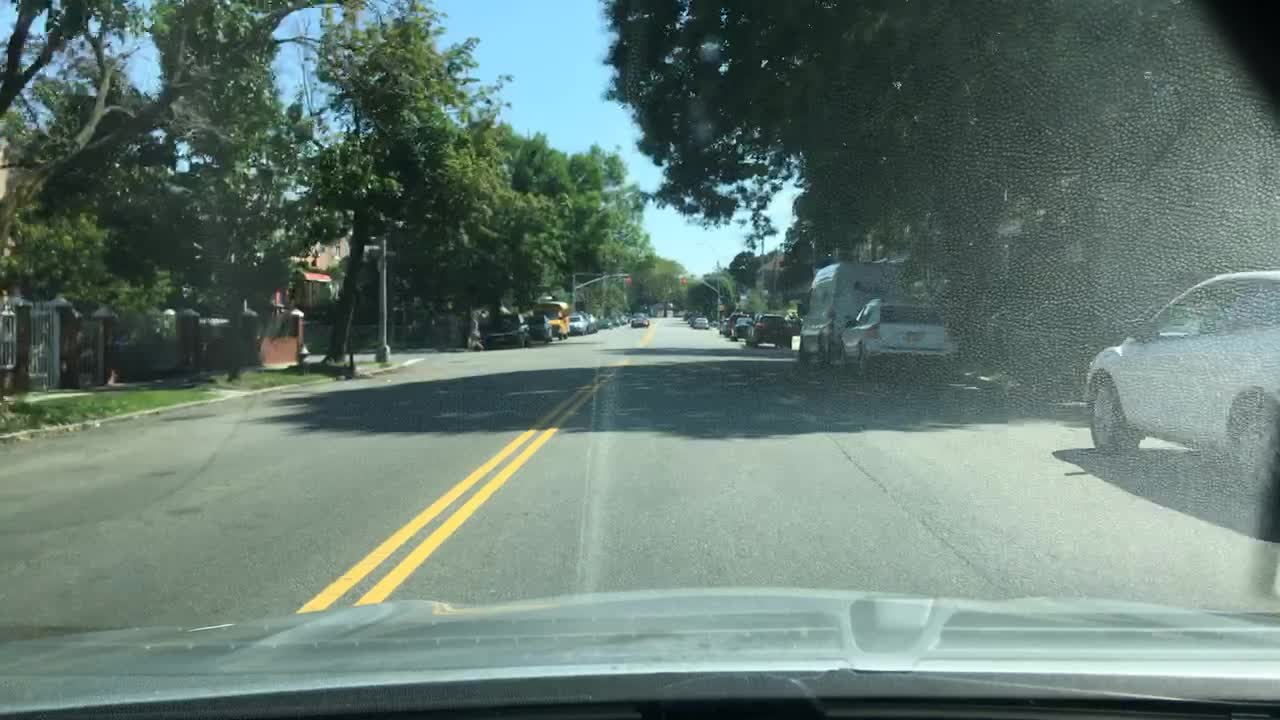bus: (533, 297, 570, 339)
car: (1079, 268, 1279, 500), (798, 257, 918, 381), (840, 297, 957, 383), (479, 309, 526, 351), (745, 311, 790, 349), (526, 314, 551, 342), (783, 307, 806, 335), (727, 314, 750, 340), (734, 318, 754, 337), (570, 313, 588, 332), (630, 311, 647, 328), (691, 314, 708, 328), (717, 316, 729, 333), (595, 316, 612, 326), (586, 314, 596, 330), (612, 314, 623, 328), (681, 308, 689, 323)
